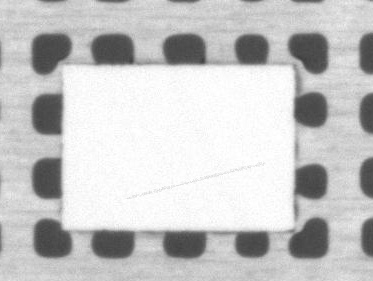DIE_CRACK: (169, 123, 350, 149)
